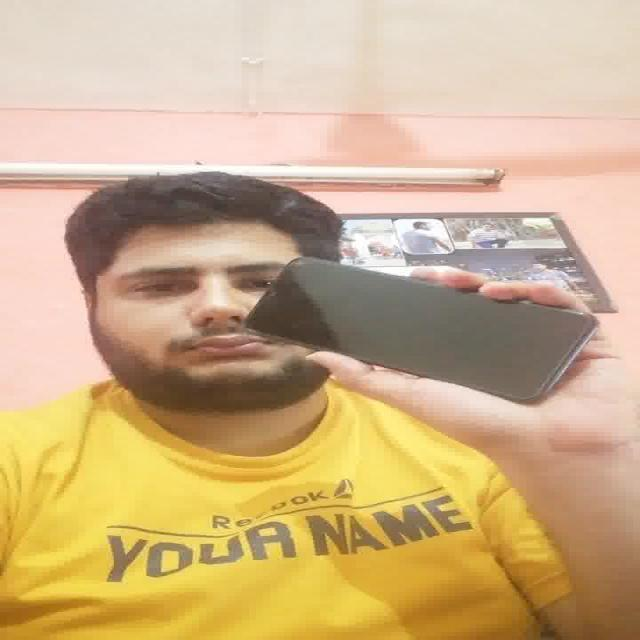Phone: (245, 253, 600, 408)
